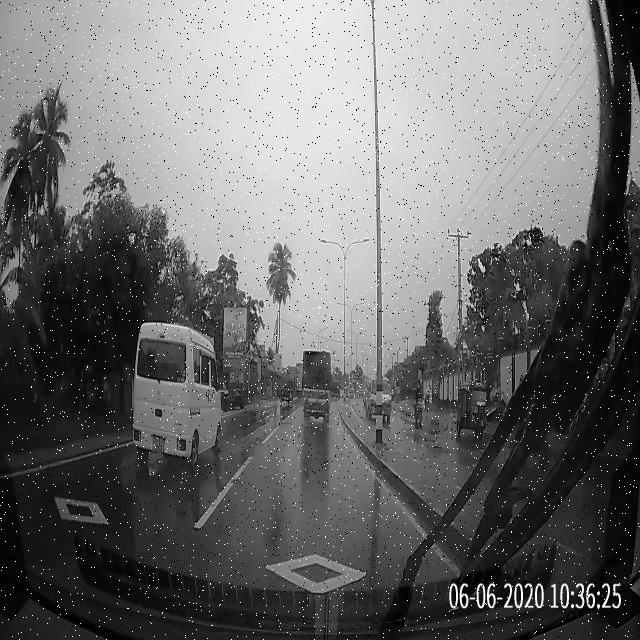diamond: (136, 527, 444, 598)
